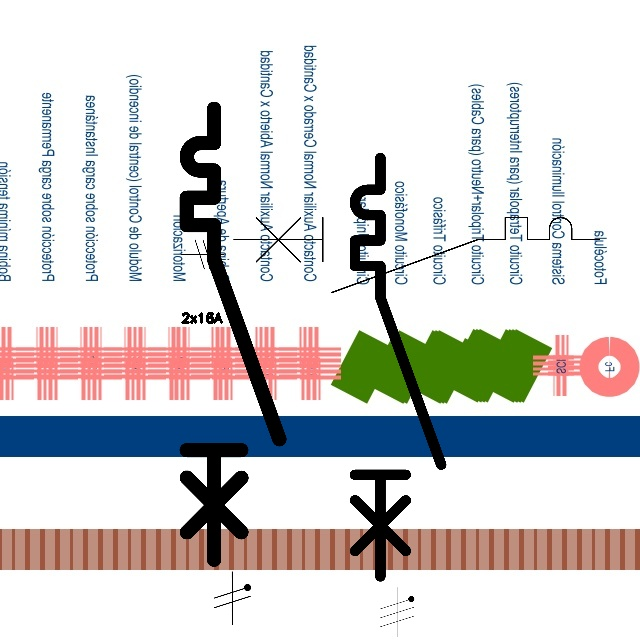interruptor_termomagnetico: (175, 97, 291, 571), (344, 147, 451, 587), (224, 208, 609, 302)
